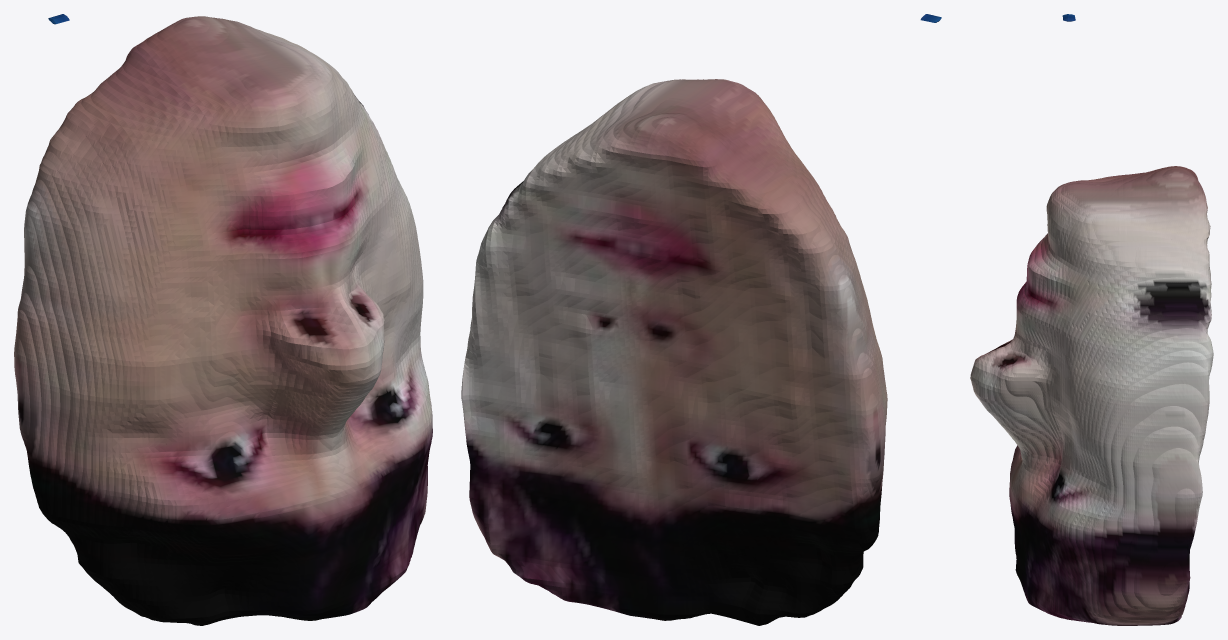
File: sample_face.obj
3 views of the same model, side by side, from view 1: azimuth 30°, elevation 25°; view 2: azimuth 150°, elevation 25°; view 3: azimuth 270°, elevation 25° (orthographic). The views are drawn at different scales.
Bounding box in the file's own units: 93.02 × 139 × 61.66.
